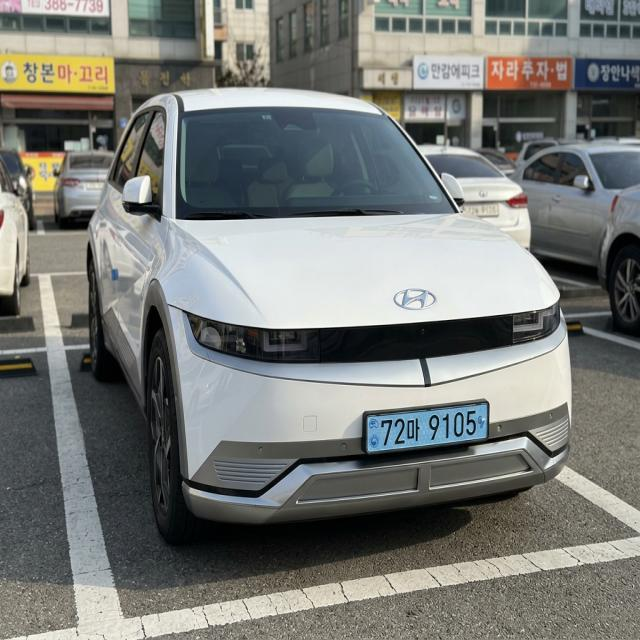car: (348, 393, 513, 467)
carev: (475, 400, 491, 447), (364, 413, 381, 456)
